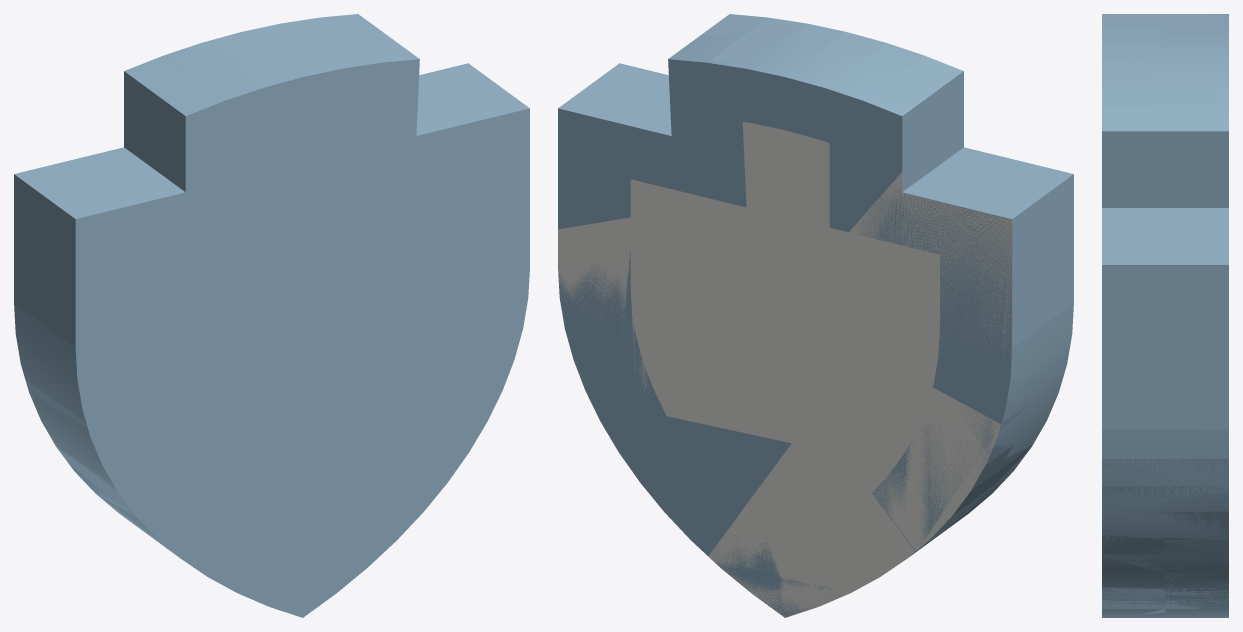
The model's file is shieldBlue.fbx.
3 renders of one model, left to right at view 1: azimuth 30°, elevation 25°; view 2: azimuth 150°, elevation 25°; view 3: azimuth 270°, elevation 25°, orthographic. The views are drawn at different scales.
Parts seen in each view (by area): view 1: shieldBlue, shieldBlue_cell.006, shieldBlue_cell.001, shieldBlue_cell.005, shieldBlue_cell.007, shieldBlue_cell.004, shieldBlue_cell.003; view 2: shieldBlue, shieldBlue_cell.005, shieldBlue_cell.001, shieldBlue_cell.004, shieldBlue_cell.003, shieldBlue_cell.002, shieldBlue_cell.006, shieldBlue_cell.007; view 3: shieldBlue, shieldBlue_cell.005, shieldBlue_cell.006, shieldBlue_cell.007, shieldBlue_cell, shieldBlue_cell.002.
Boxes of the visible parts, left/top/right/bottom form: shieldBlue: left=14, top=14, right=529, bottom=617; shieldBlue_cell.006: left=124, top=20, right=472, bottom=286; shieldBlue_cell.001: left=14, top=147, right=287, bottom=423; shieldBlue_cell.005: left=285, top=220, right=529, bottom=399; shieldBlue_cell.007: left=417, top=67, right=529, bottom=228; shieldBlue_cell.004: left=25, top=379, right=257, bottom=572; shieldBlue_cell.003: left=113, top=508, right=338, bottom=617; shieldBlue: left=558, top=30, right=1073, bottom=617; shieldBlue_cell.005: left=558, top=203, right=835, bottom=441; shieldBlue_cell.001: left=827, top=142, right=1073, bottom=422; shieldBlue_cell.004: left=824, top=335, right=1032, bottom=550; shieldBlue_cell.003: left=708, top=430, right=919, bottom=616; shieldBlue_cell.002: left=590, top=399, right=791, bottom=555; shieldBlue_cell.006: left=669, top=14, right=963, bottom=169; shieldBlue_cell.007: left=578, top=63, right=702, bottom=167; shieldBlue: left=1102, top=14, right=1228, bottom=617; shieldBlue_cell.005: left=1102, top=389, right=1228, bottom=539; shieldBlue_cell.006: left=1102, top=14, right=1228, bottom=234; shieldBlue_cell.007: left=1102, top=166, right=1228, bottom=388; shieldBlue_cell: left=1102, top=529, right=1165, bottom=614; shieldBlue_cell.002: left=1165, top=540, right=1228, bottom=608.
Bounding box in the file's own units: 240 × 273 × 56.4.
